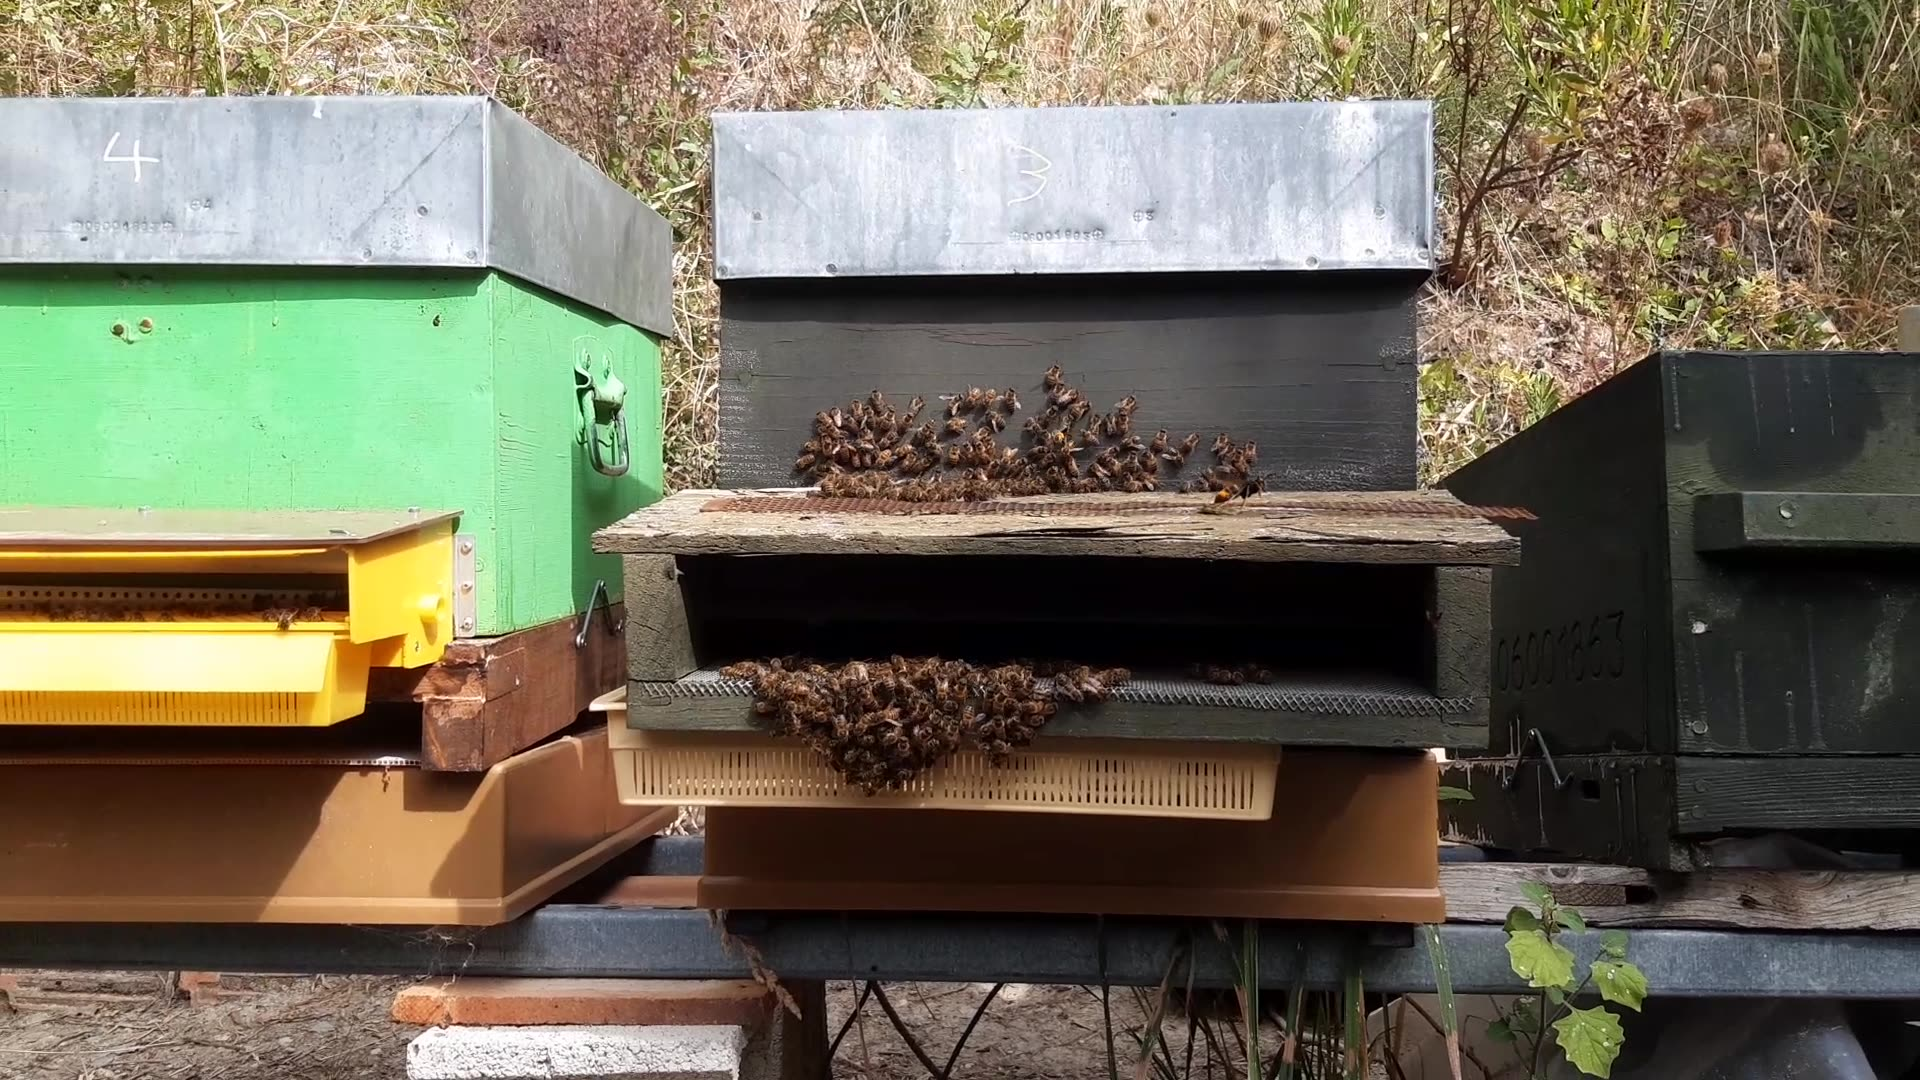bee: (812, 673, 915, 771), (849, 713, 934, 798), (1000, 667, 1101, 728), (712, 675, 798, 738), (1167, 439, 1247, 498), (1441, 235, 1498, 301), (1048, 382, 1108, 444), (945, 454, 1023, 498), (1051, 448, 1120, 498), (812, 458, 884, 502), (824, 404, 890, 448), (945, 390, 1015, 433)
